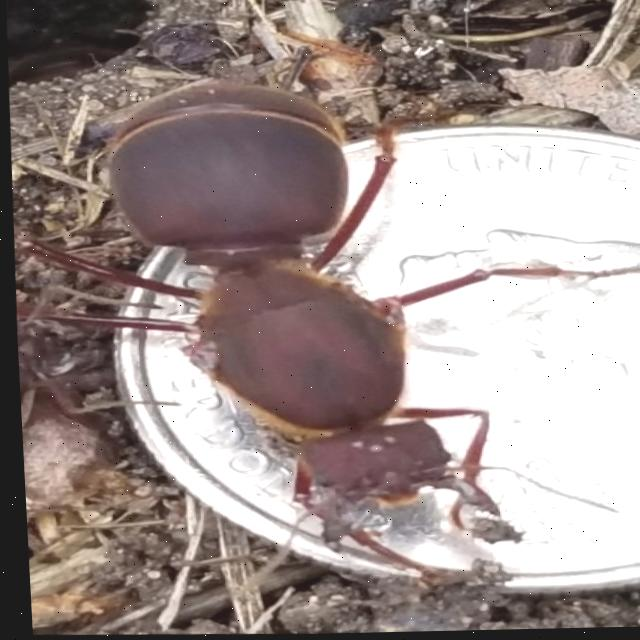Alive-Female-Dealate: (2, 34, 640, 593)
